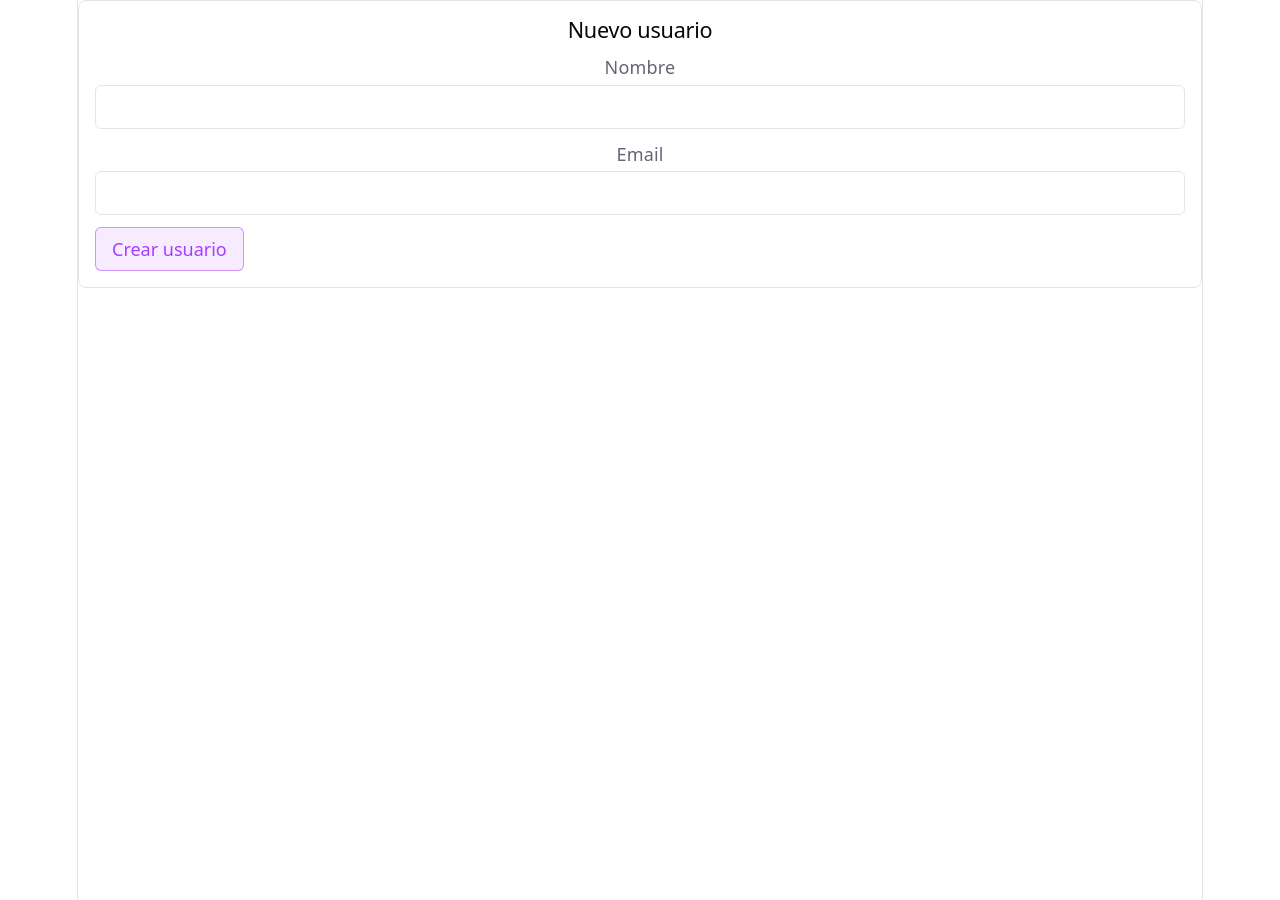
Test: UsuarioForm › crea el usuario, avisa al padre y limpia el formulario
Later steps or results of the test are not shown.
Type "Ana" into the field labelled "Nombre" at (640, 107), box [95,85,1185,129]
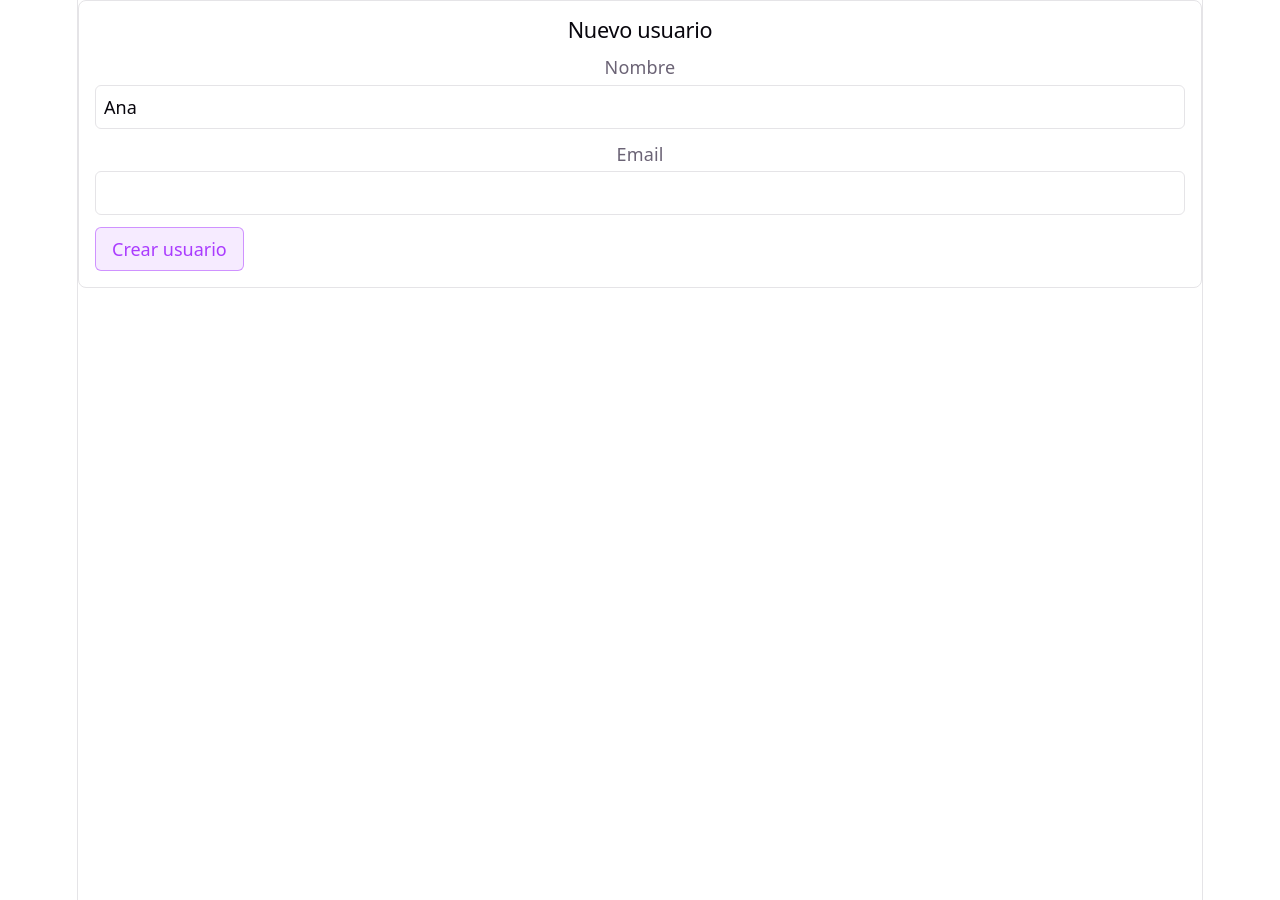
Type "ana@ejemplo.com" into the field labelled "Email" at (640, 193), box [95,171,1185,215]
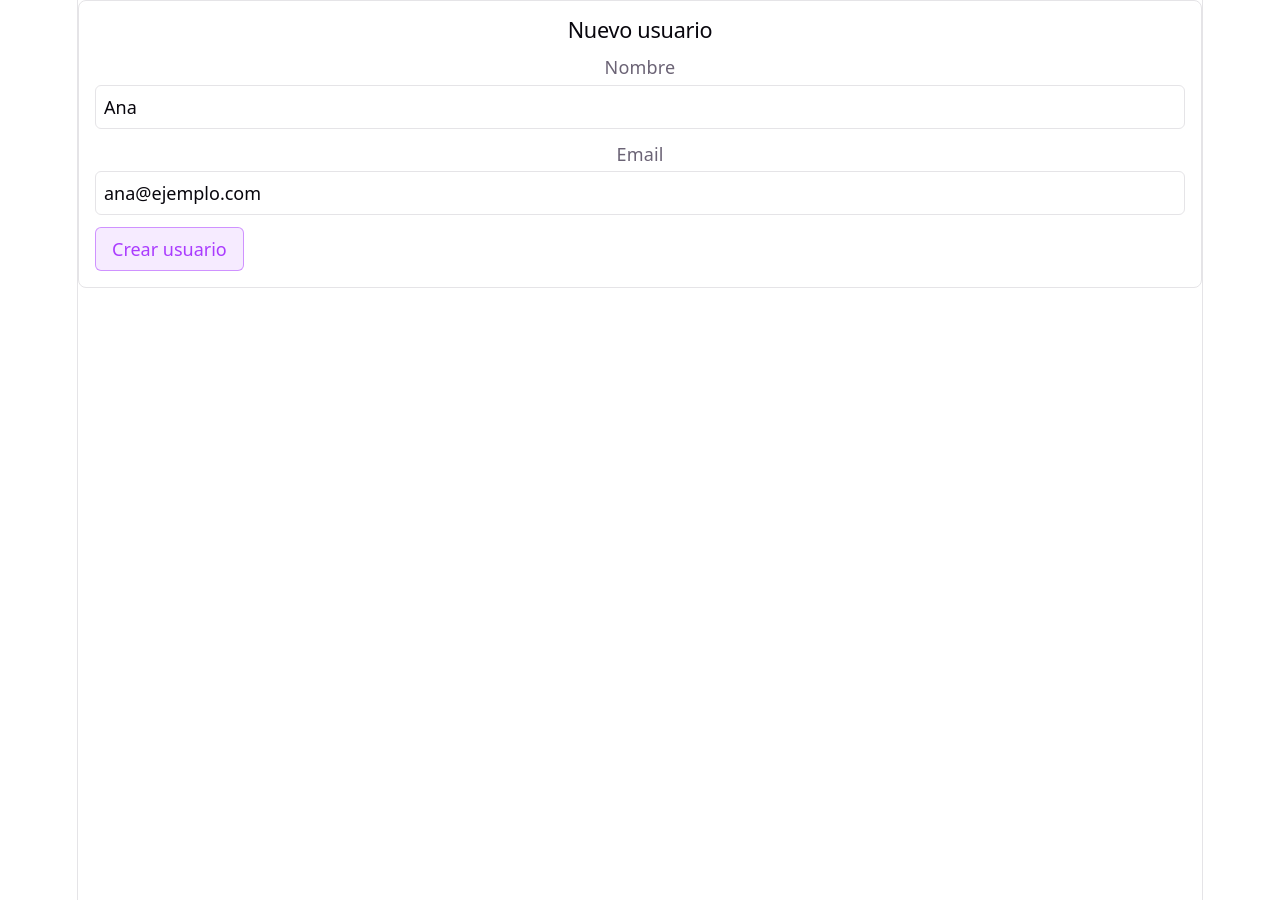
Click the button "Crear usuario" at (169, 249), box [95,227,244,271]
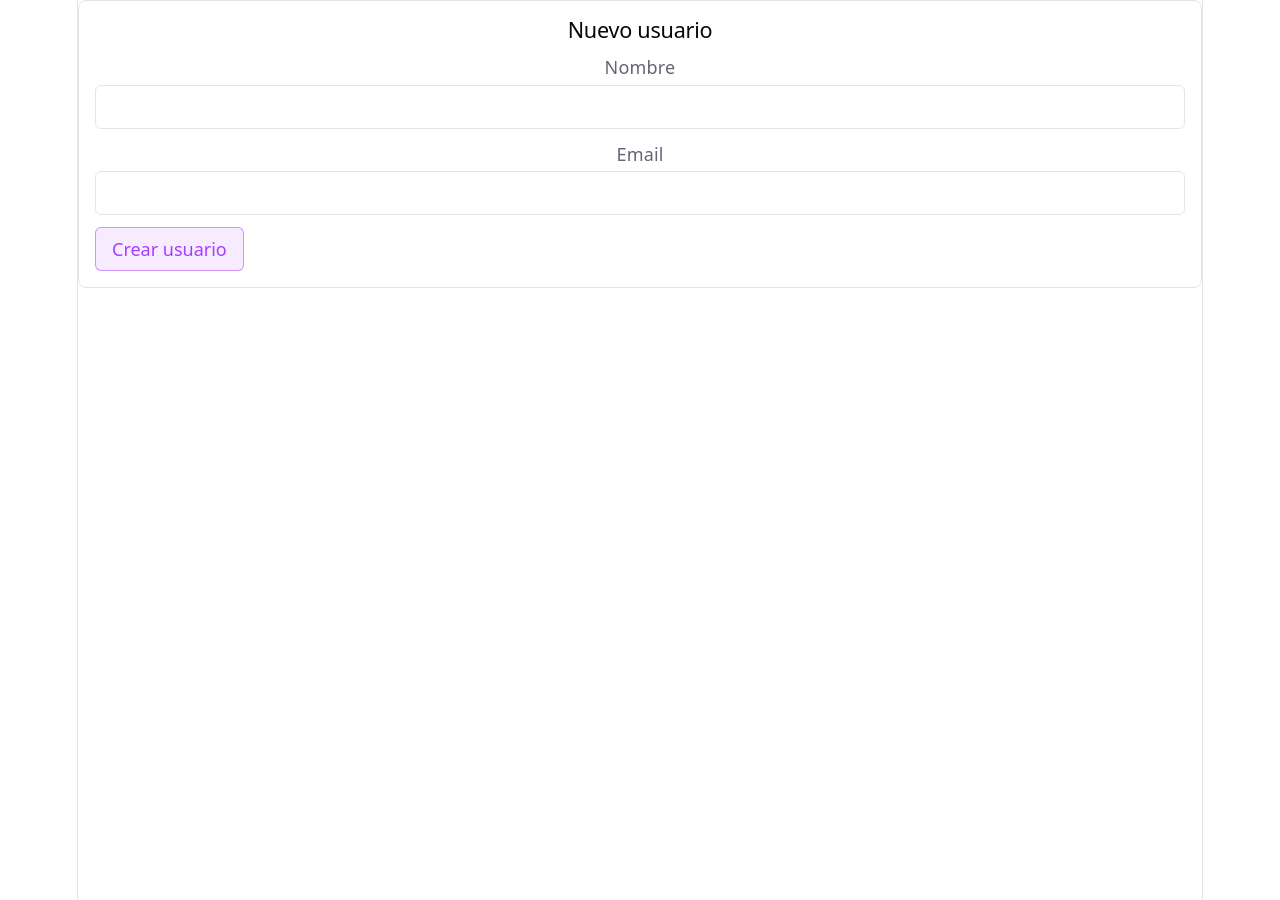
Expected: the field labelled "Nombre" is empty, [95,85,1185,129]
Expected: the field labelled "Email" is empty, [95,171,1185,215]
